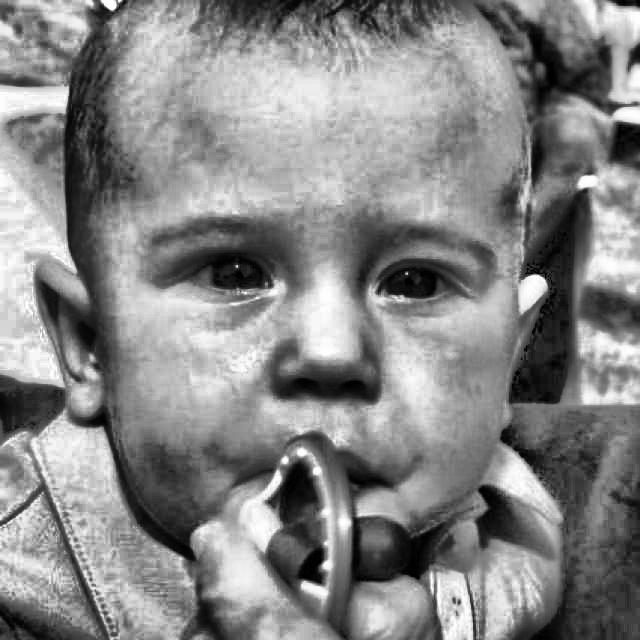sad: (86, 139, 514, 511)
